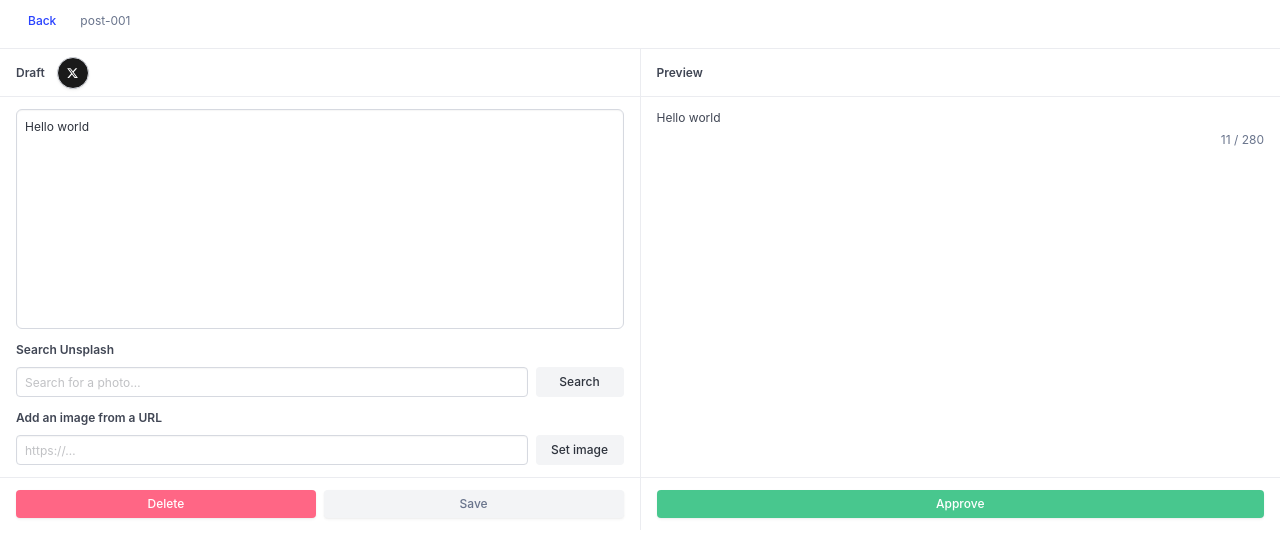
Test: EditPostView — Approve error › shows approve error alert when approve_post fails
Step 1. Click the button "Approve" → (960, 504), box x1=656 y1=490 x2=1264 y2=518
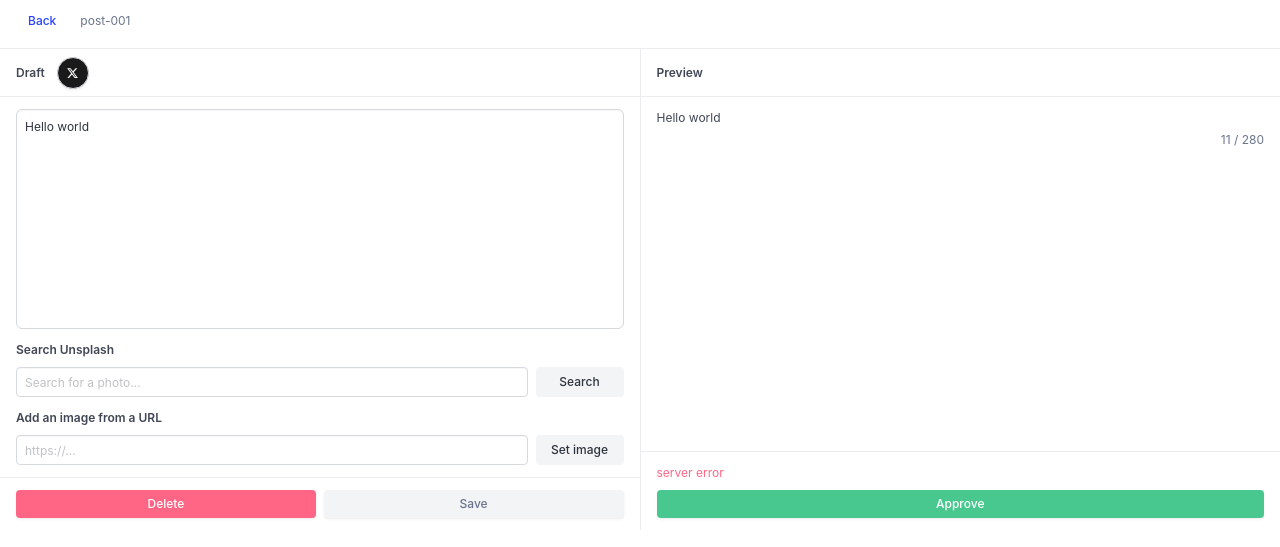
Check: the message "server error" is shown, box x1=656 y1=465 x2=724 y2=480
